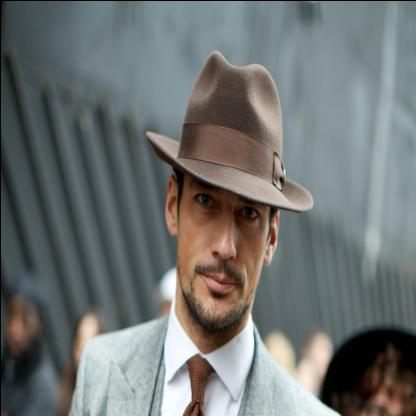hat: (139, 46, 316, 218)
